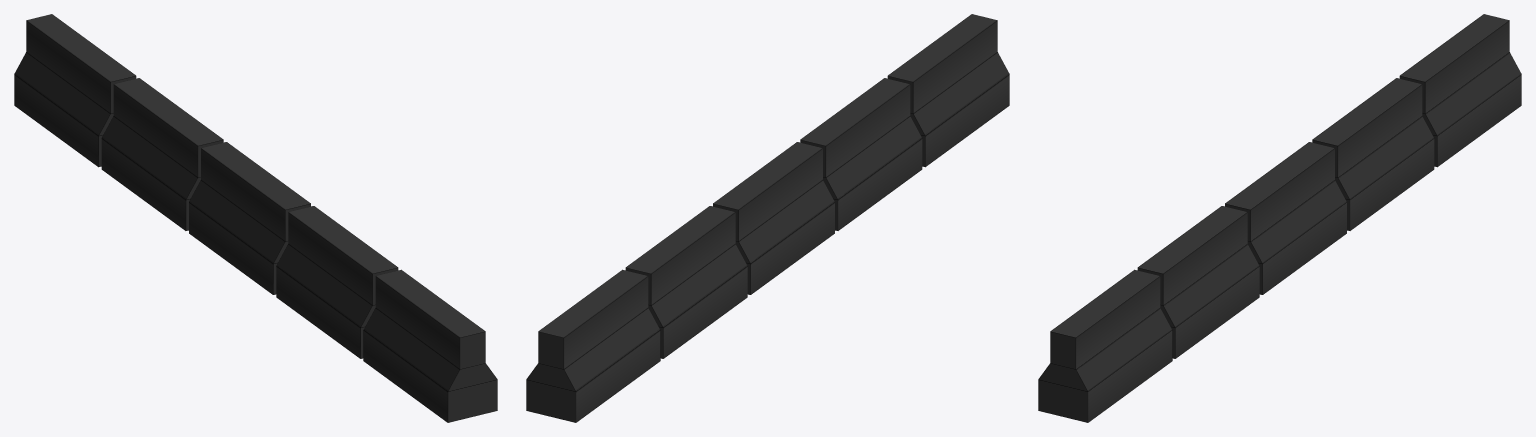
The model's file is oerk-barrier.gltf.
3 views of the same model, side by side, from view 1: azimuth 30°, elevation 25°; view 2: azimuth 150°, elevation 25°; view 3: azimuth 330°, elevation 25° (orthographic).
Parts seen in each view (by area): view 1: Cube.001; view 2: Cube.001; view 3: Cube.001.
Part boxes in pixels (x1,y1,x2,y2): Cube.001: (14,14,497,422); Cube.001: (526,14,1009,422); Cube.001: (1038,14,1521,422).
Size of what is drawn, in the model's own units: 0.54 by 0.85 by 8.12.
1 material, 1 textured.
